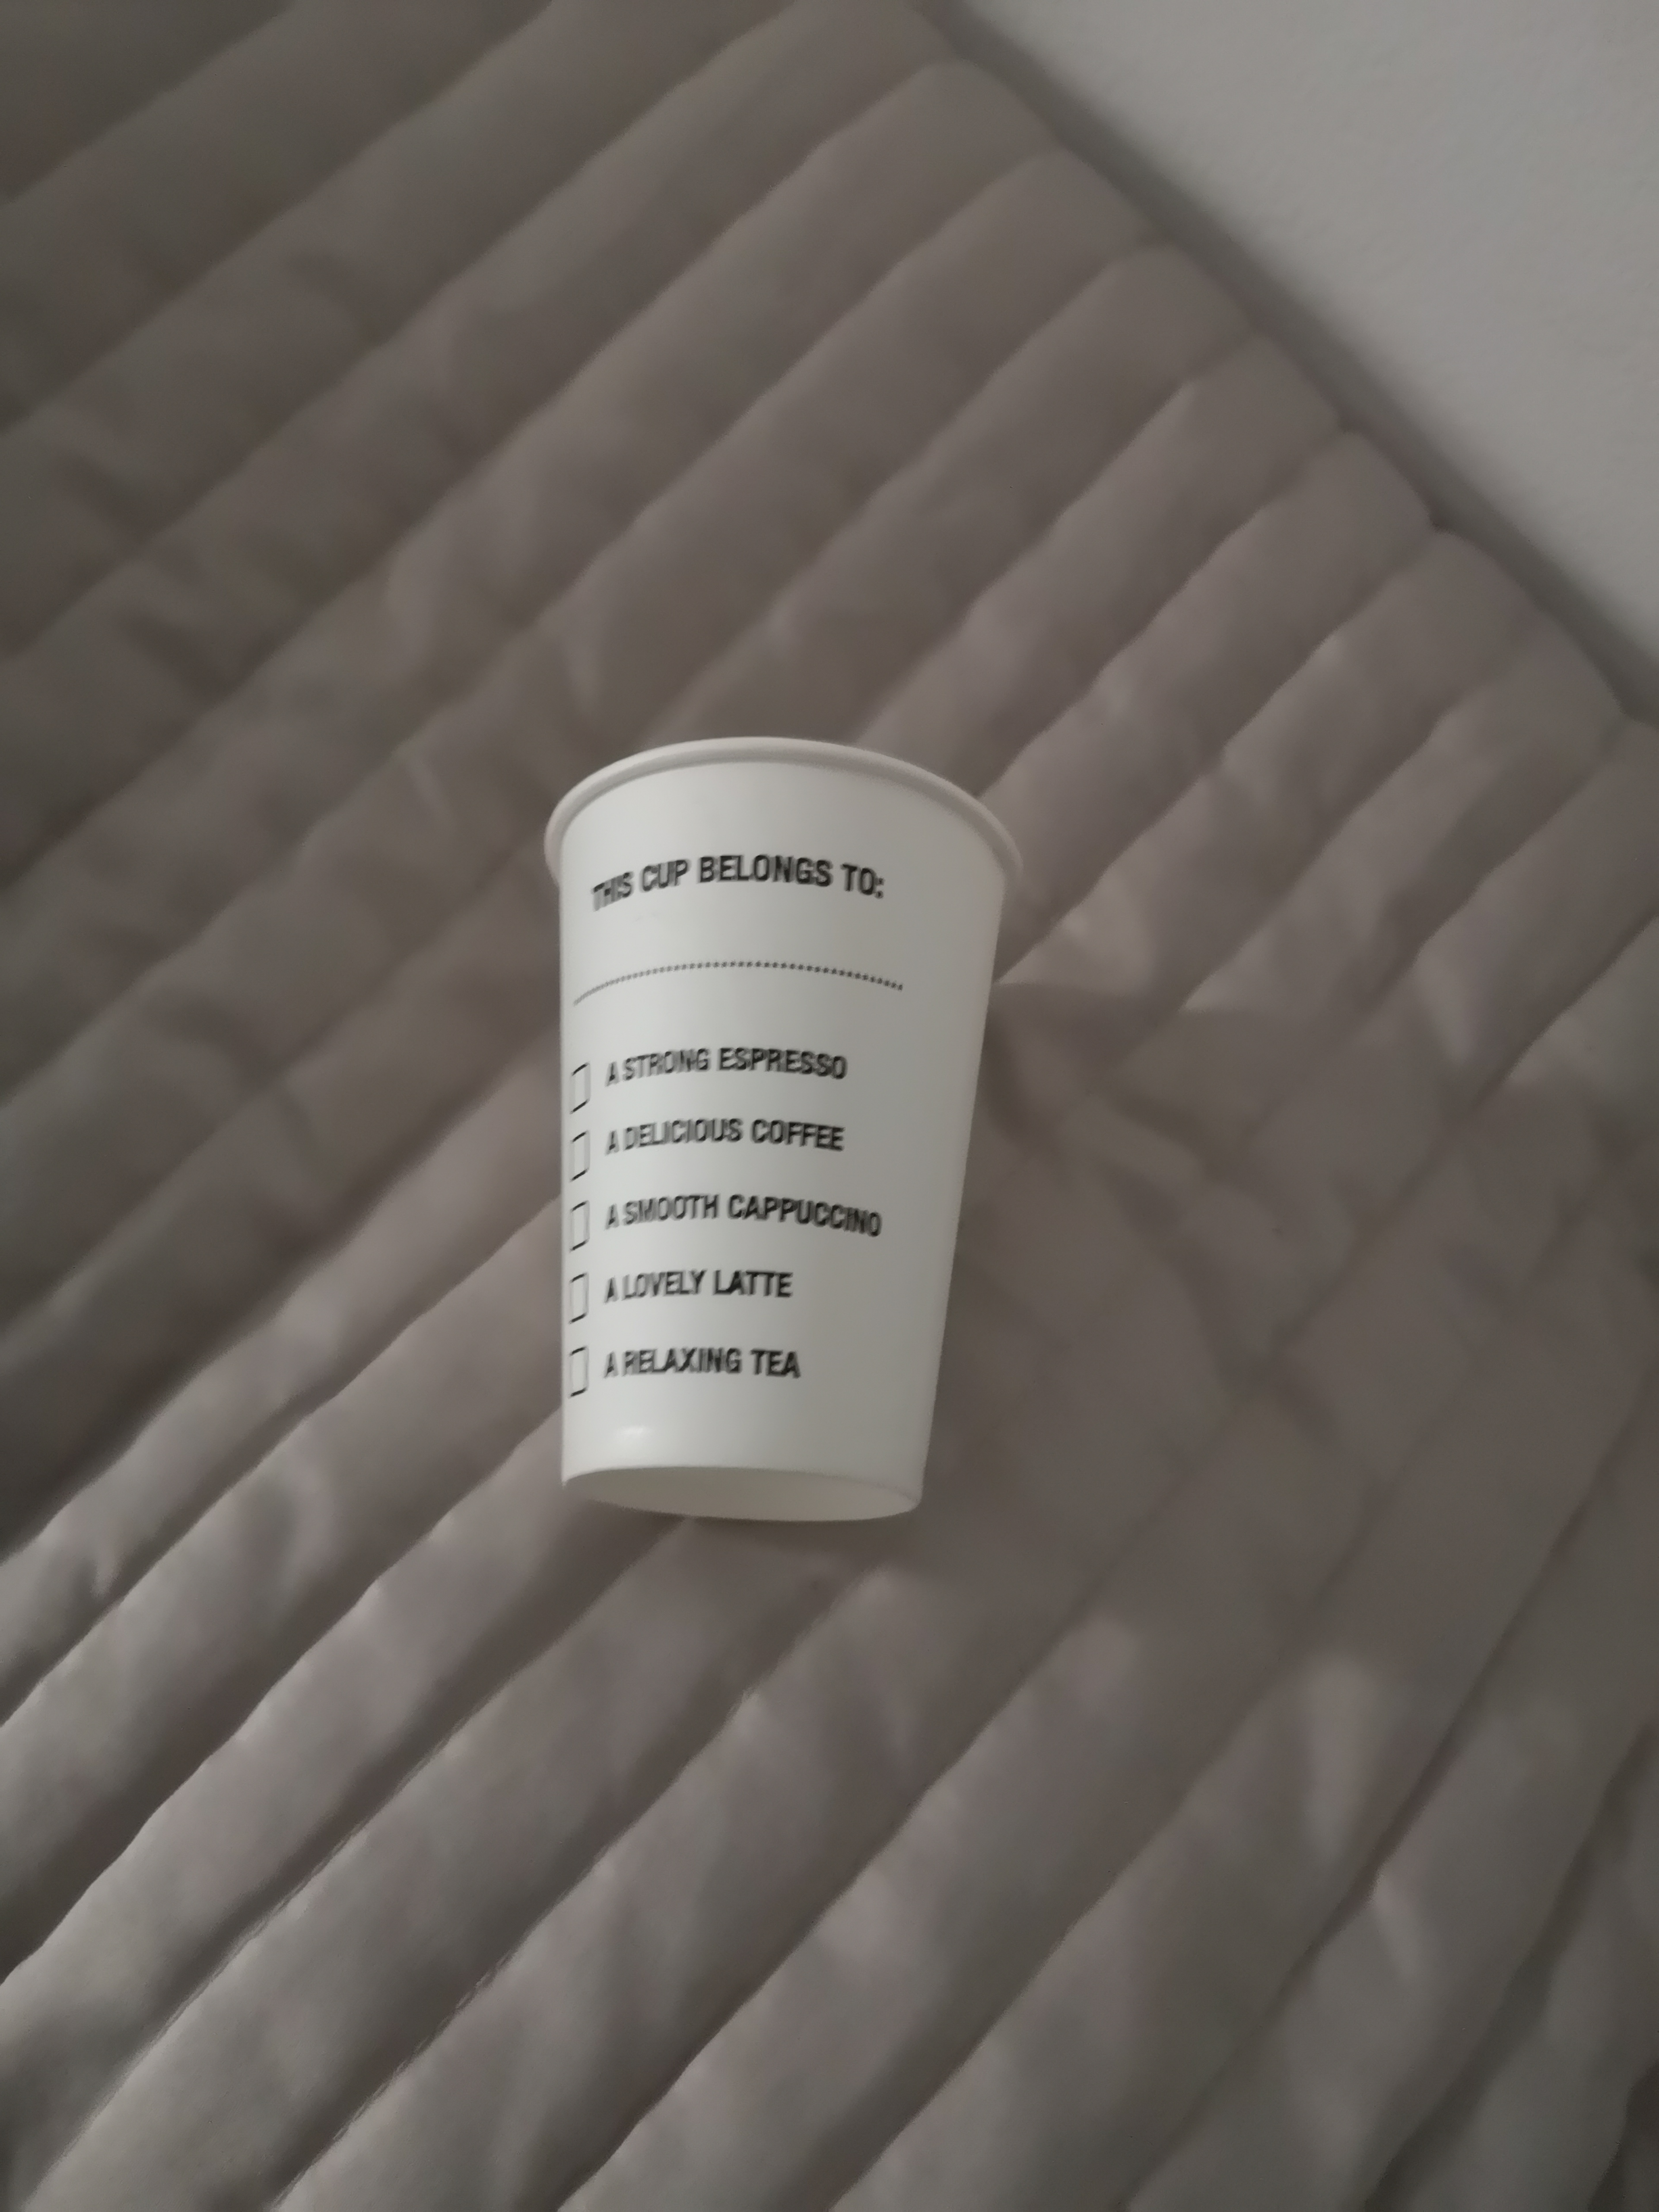cup: (519, 707, 1037, 1588)
